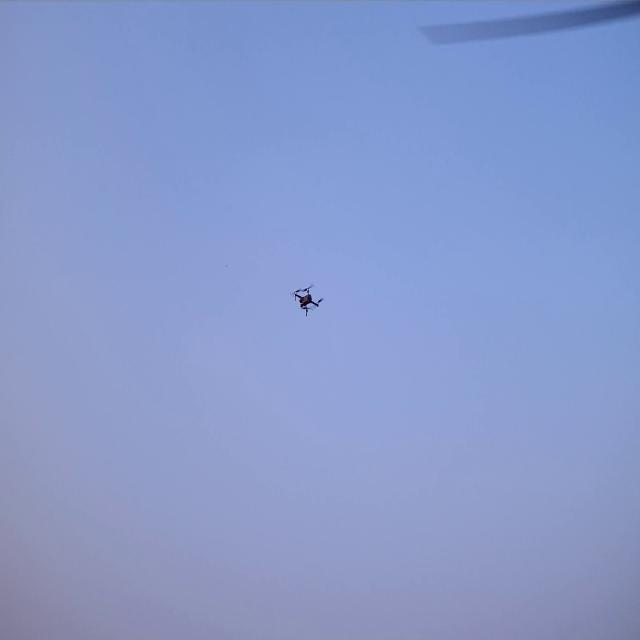UAV: (294, 288, 320, 316)
